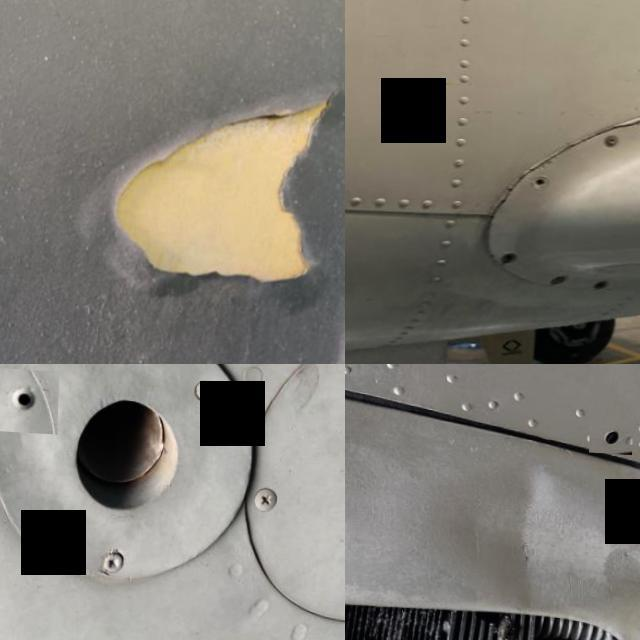Crack: (524, 124, 612, 168), (480, 164, 524, 224), (615, 105, 640, 129)
Dent: (371, 439, 640, 624)
Missing_Fastener: (0, 364, 60, 430), (590, 404, 634, 451), (504, 248, 521, 262), (534, 172, 551, 185), (596, 274, 610, 286)
